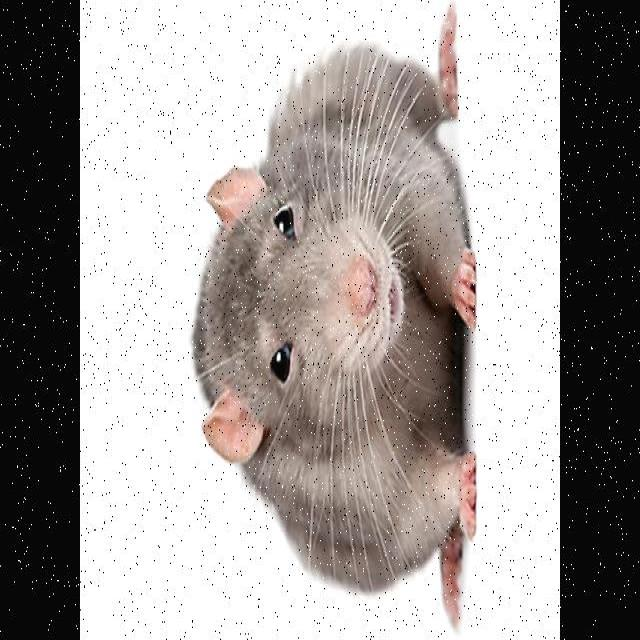rat: (184, 0, 476, 633)
